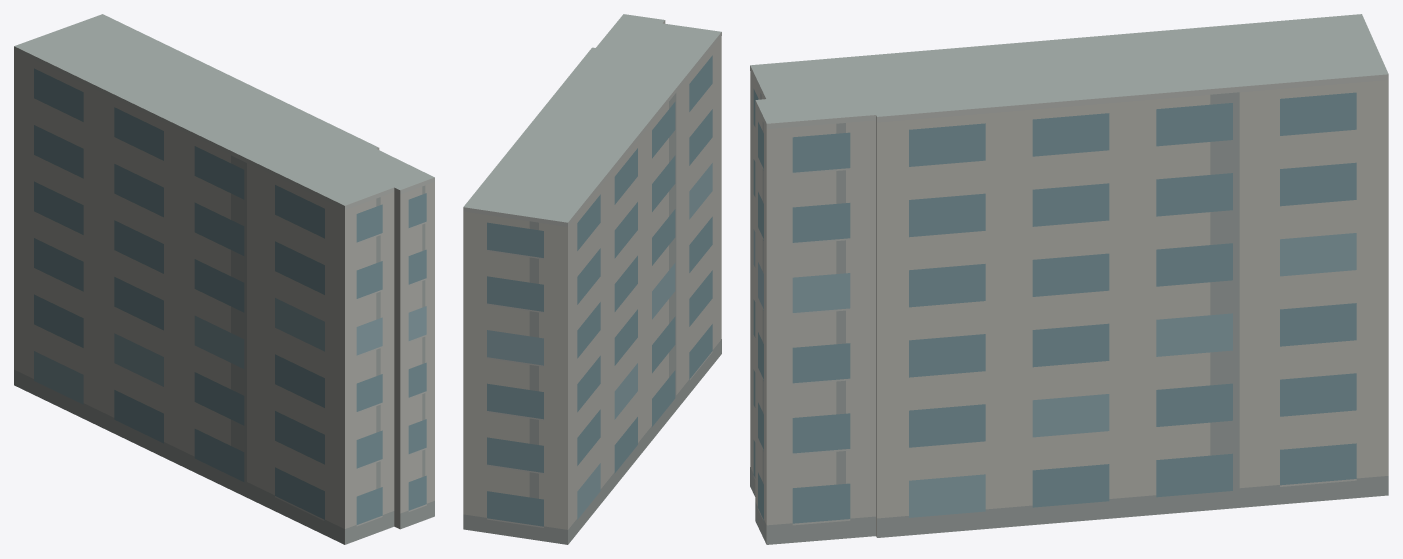
Rendered from survey-upis-32876913.glb.
3 views of the same model, side by side, from view 1: azimuth 30°, elevation 25°; view 2: azimuth 150°, elevation 25°; view 3: azimuth 270°, elevation 25° (orthographic). The views are drawn at different scales.
Visible parts, largest first — view 1: survey-upis-32876913.tmp; view 2: survey-upis-32876913.tmp; view 3: survey-upis-32876913.tmp.
Boxes of the visible parts, box(x1,y1,x2,y2) form: survey-upis-32876913.tmp: box(14, 14, 434, 544); survey-upis-32876913.tmp: box(463, 14, 721, 544); survey-upis-32876913.tmp: box(750, 14, 1388, 544).
Size of the model in its own units: 10.36 by 18.5 by 25.44.
